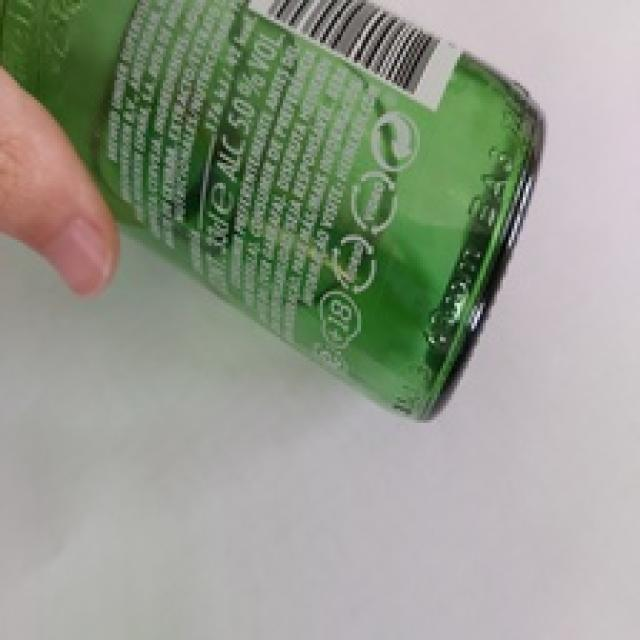Glass: (0, 0, 548, 419)
